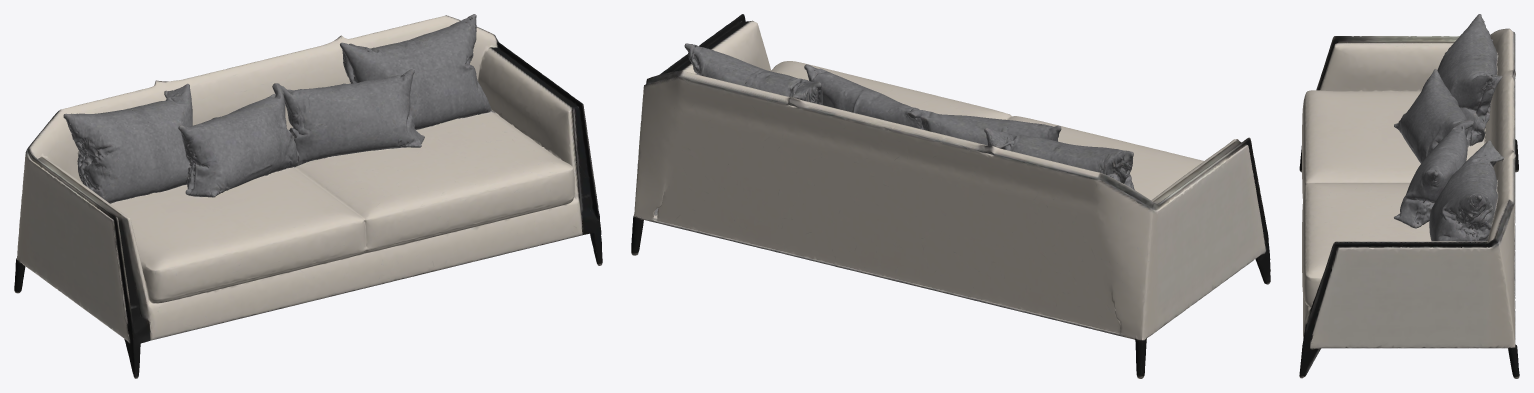
Rendered from modern_three_seater_sofa_9eoodn.glb.
3 renders of one model, left to right at view 1: azimuth 30°, elevation 25°; view 2: azimuth 150°, elevation 25°; view 3: azimuth 270°, elevation 25°, orthographic. The views are drawn at different scales.
Parts seen in each view (by area): view 1: world; view 2: world; view 3: world.
Part boxes in pixels (bbox=[...]): world: bbox=[14, 14, 602, 378]; world: bbox=[631, 14, 1270, 378]; world: bbox=[1299, 14, 1519, 378].
Size of the model in its own units: 0.9933 by 0.3756 by 0.441.
Materials: 1 (1 with a texture image).
